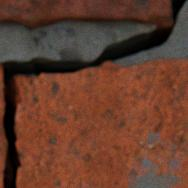brick: (0, 0, 171, 31)
broken_brick: (14, 61, 187, 187), (0, 64, 6, 187)
crack: (1, 0, 187, 187)
